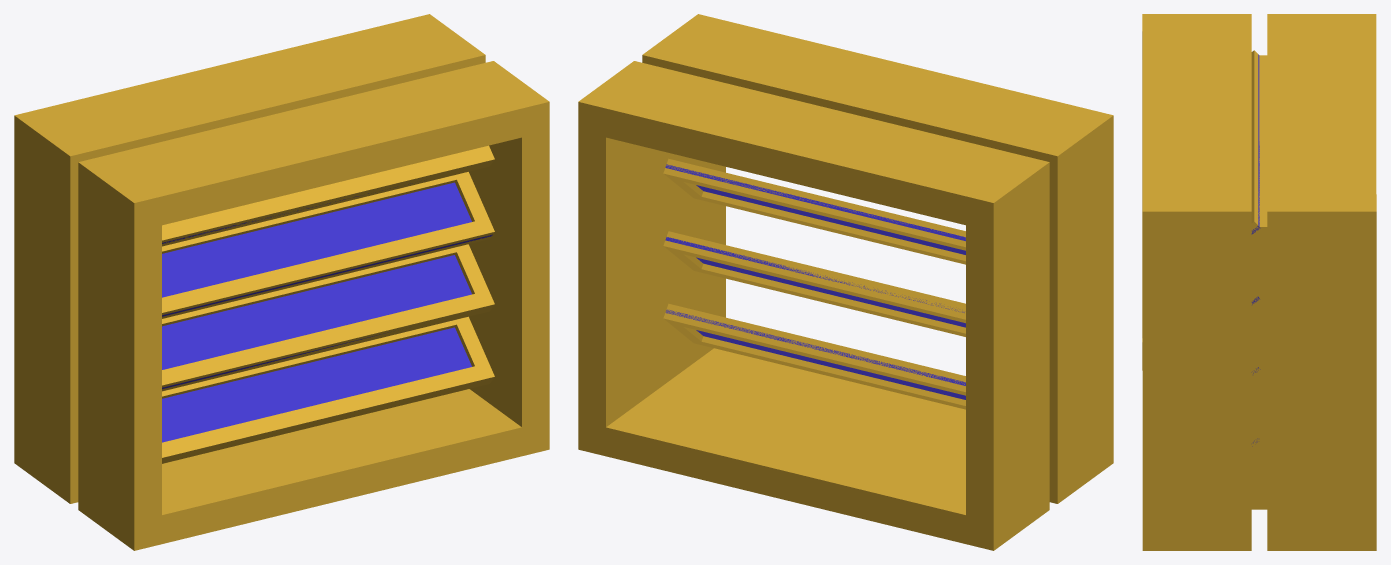
The model's file is 15_LiftAwningWindow.FBX.
3 views of the same model, side by side, from view 1: azimuth 30°, elevation 25°; view 2: azimuth 150°, elevation 25°; view 3: azimuth 270°, elevation 25° (orthographic). The views are drawn at different scales.
Visible parts, largest first — view 1: 15_LiftAwningWindow; view 2: 15_LiftAwningWindow; view 3: 15_LiftAwningWindow.
Part boxes in pixels (box(x1,y1,x2,y2)): 15_LiftAwningWindow: box(14, 14, 549, 550); 15_LiftAwningWindow: box(578, 14, 1113, 550); 15_LiftAwningWindow: box(1142, 14, 1376, 550).
Size of the model in its own units: 76.21 by 60.96 by 38.11.
